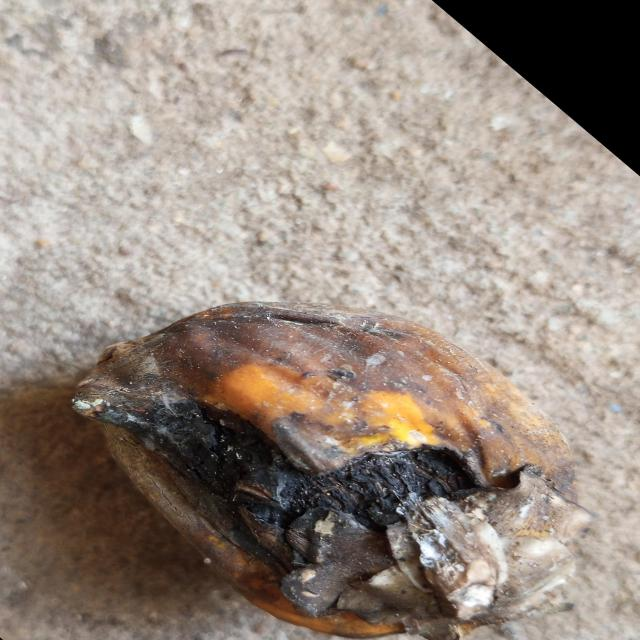damaged: (70, 303, 581, 640)
